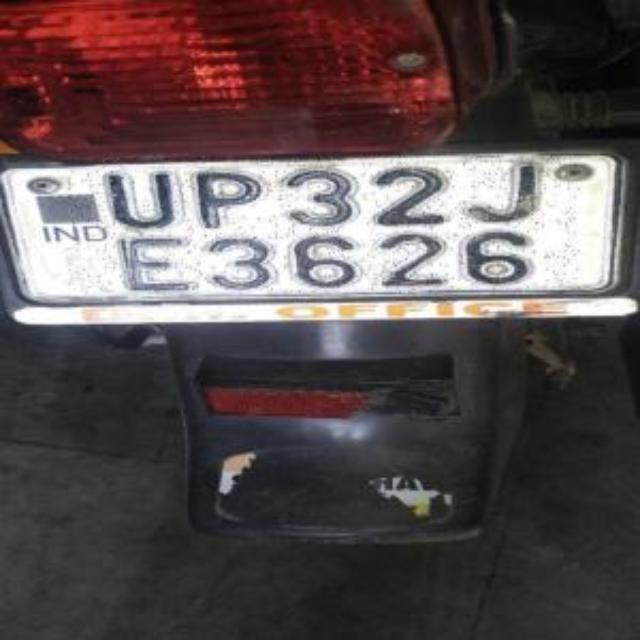License Plate: (69, 157, 579, 295)
